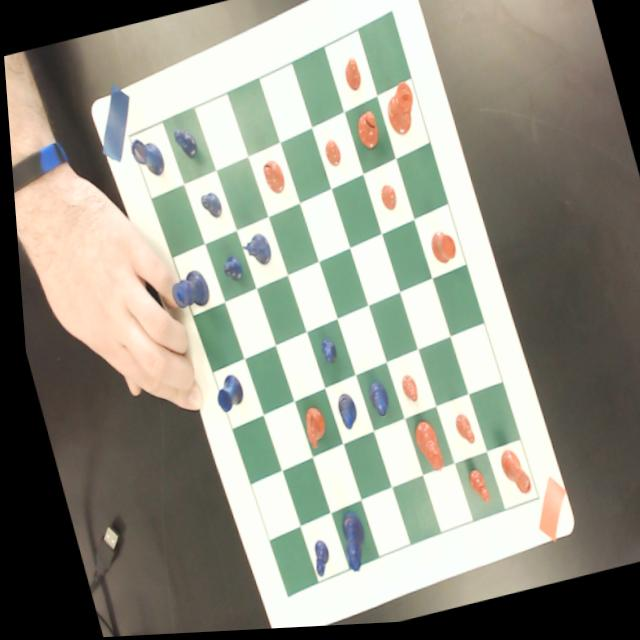B: (328, 394, 355, 436), (359, 381, 386, 423)
K: (163, 269, 208, 315)
N: (235, 234, 271, 274)
P: (169, 124, 198, 165), (300, 543, 326, 582), (195, 192, 222, 224), (215, 255, 241, 287), (313, 339, 334, 370)
Q: (327, 514, 366, 578)
R: (126, 135, 165, 184), (204, 375, 242, 419)
b: (350, 113, 381, 156), (258, 157, 285, 200)
k: (378, 83, 421, 143)
n: (293, 408, 325, 454)
p: (458, 471, 484, 511), (339, 60, 363, 97), (445, 416, 469, 451), (320, 142, 341, 172), (375, 187, 396, 217), (393, 378, 414, 408)
q: (404, 422, 439, 479)
r: (490, 451, 526, 505), (423, 231, 456, 271)
